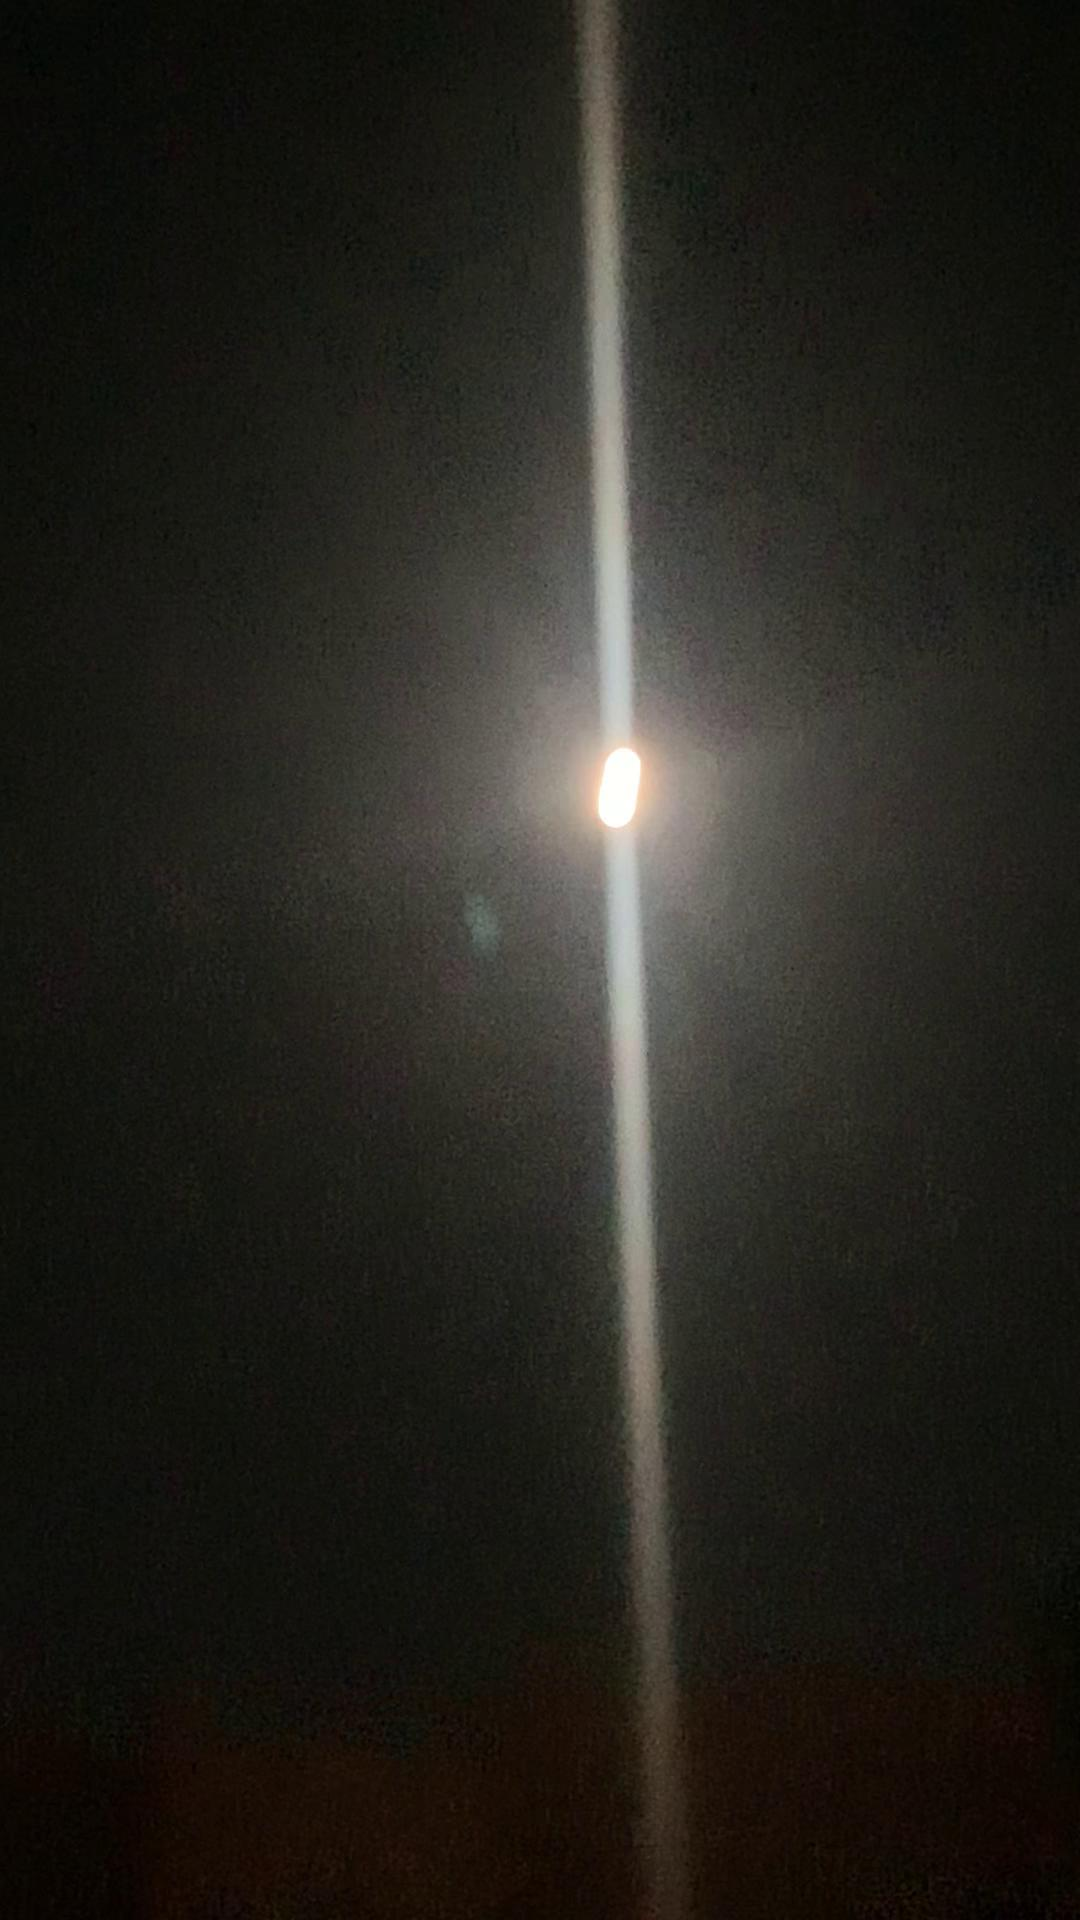moon: (571, 740, 688, 843)
